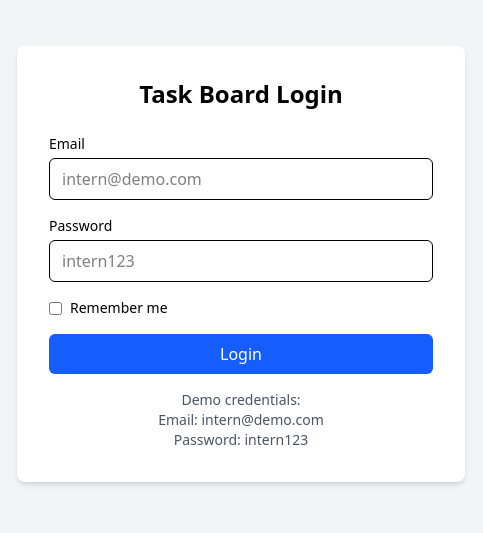
Login Component › should show error with incorrect credentials
The image size is (483, 533).
Type "wrong@email.com" into the field with placeholder "intern@demo.com". click: (241, 179)
box: [49, 158, 433, 200]
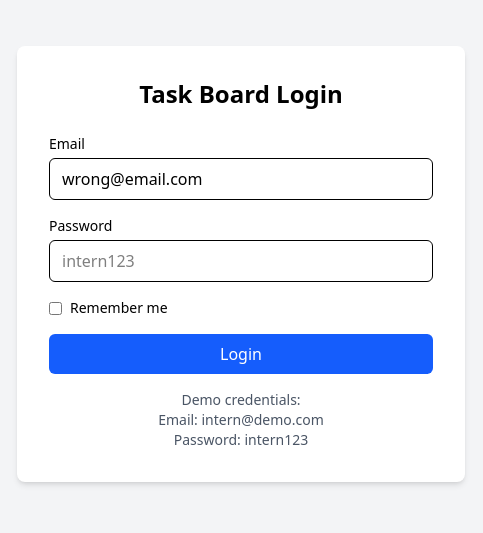
Type "wrongpass" into the password field with placeholder "intern123". click: (241, 261)
box: [49, 240, 433, 282]
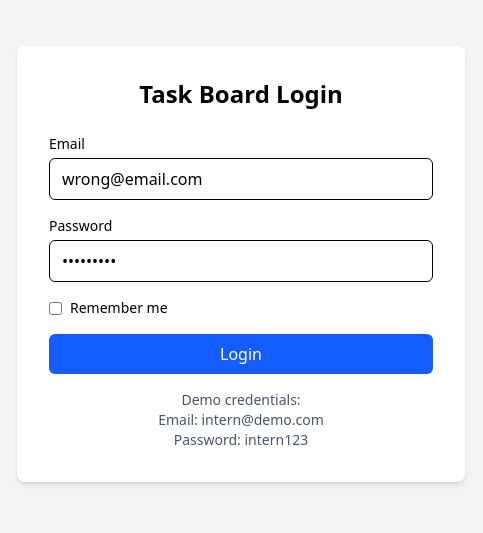
Click the button "Login". click: (241, 354)
box: [49, 334, 433, 374]
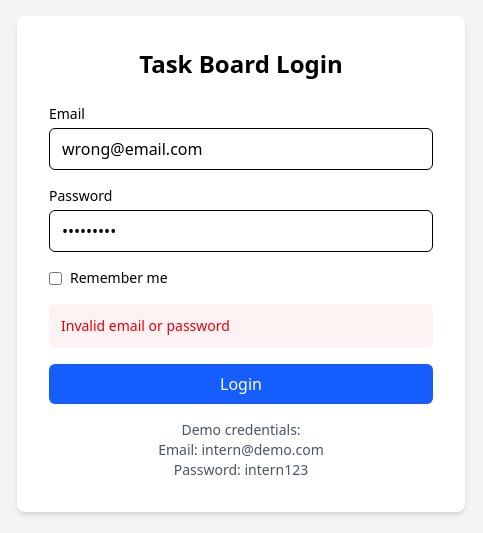
Check: the text "Invalid email or password" is shown, box [49, 304, 433, 348]
